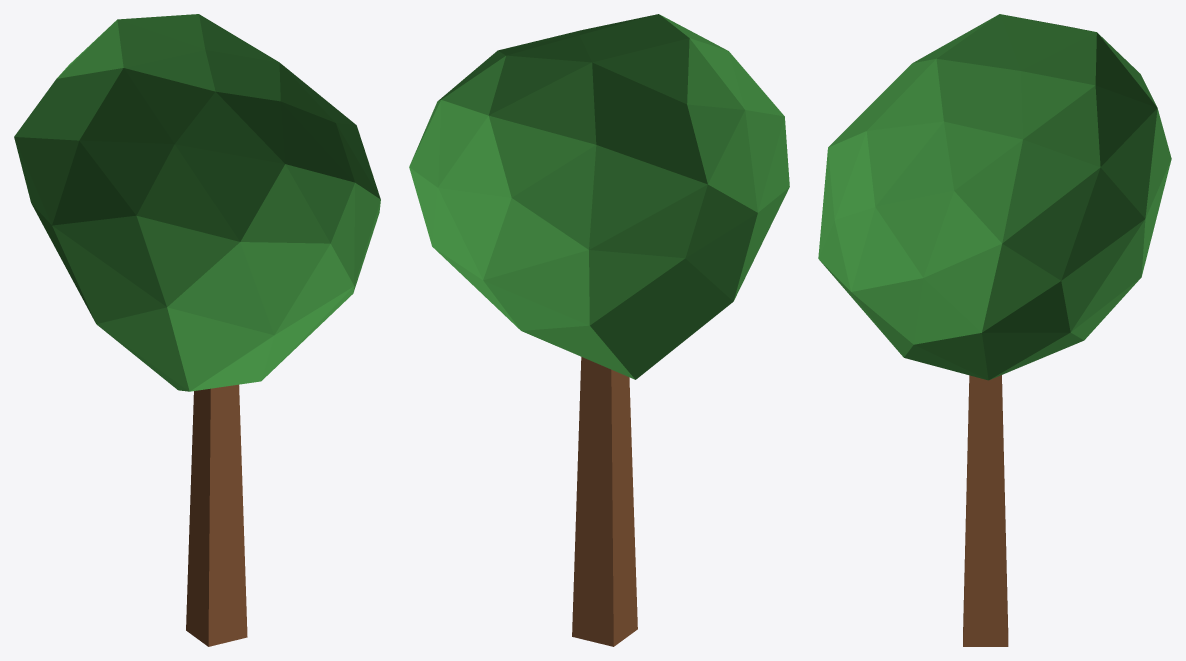
Rendered from tree_04.fbx.
3 views of the same model, side by side, from view 1: azimuth 30°, elevation 25°; view 2: azimuth 150°, elevation 25°; view 3: azimuth 270°, elevation 25° (orthographic). The views are drawn at different scales.
Visible parts, largest first — view 1: tree_04; view 2: tree_04; view 3: tree_04.
Boxes of the visible parts, bbox=[...] form: tree_04: bbox=[14, 14, 380, 646]; tree_04: bbox=[409, 14, 789, 646]; tree_04: bbox=[818, 14, 1171, 646].
Size of the model in its own units: 191 by 340 by 186.
1 material, 1 textured.
